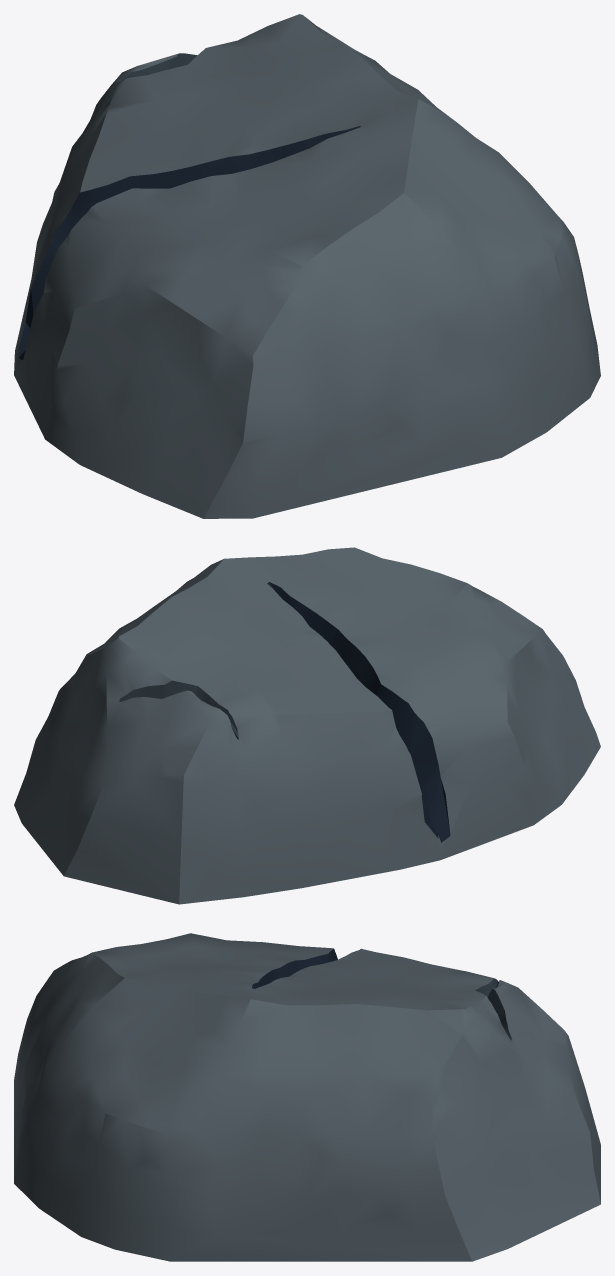
File: pebble_b.glb
3 views of the same model, one above another, from view 1: azimuth 30°, elevation 25°; view 2: azimuth 150°, elevation 25°; view 3: azimuth 270°, elevation 25° (orthographic). The views are drawn at different scales.
Visible parts, largest first — view 1: pebble_b; view 2: pebble_b; view 3: pebble_b.
Part boxes in pixels (left/top/right/bottom): pebble_b: left=14, top=14, right=600, bottom=518; pebble_b: left=14, top=547, right=600, bottom=904; pebble_b: left=14, top=933, right=600, bottom=1261.
Size of the model in its own units: 12 by 5.46 by 14.
